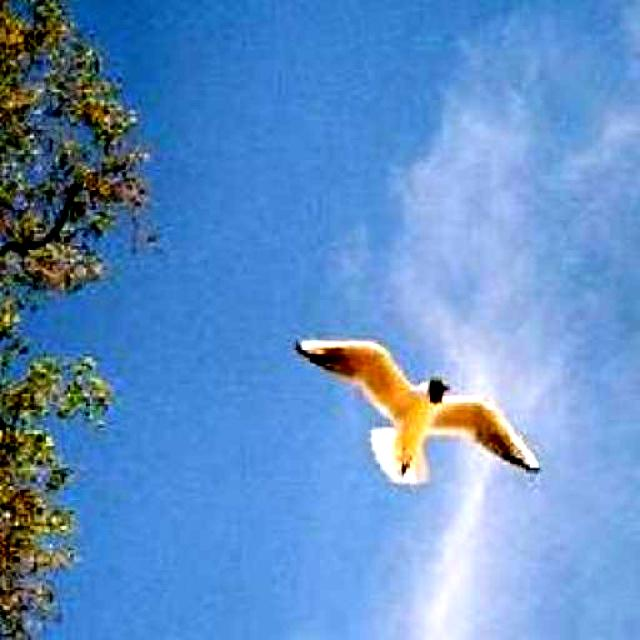airplane: (298, 336, 538, 488)
